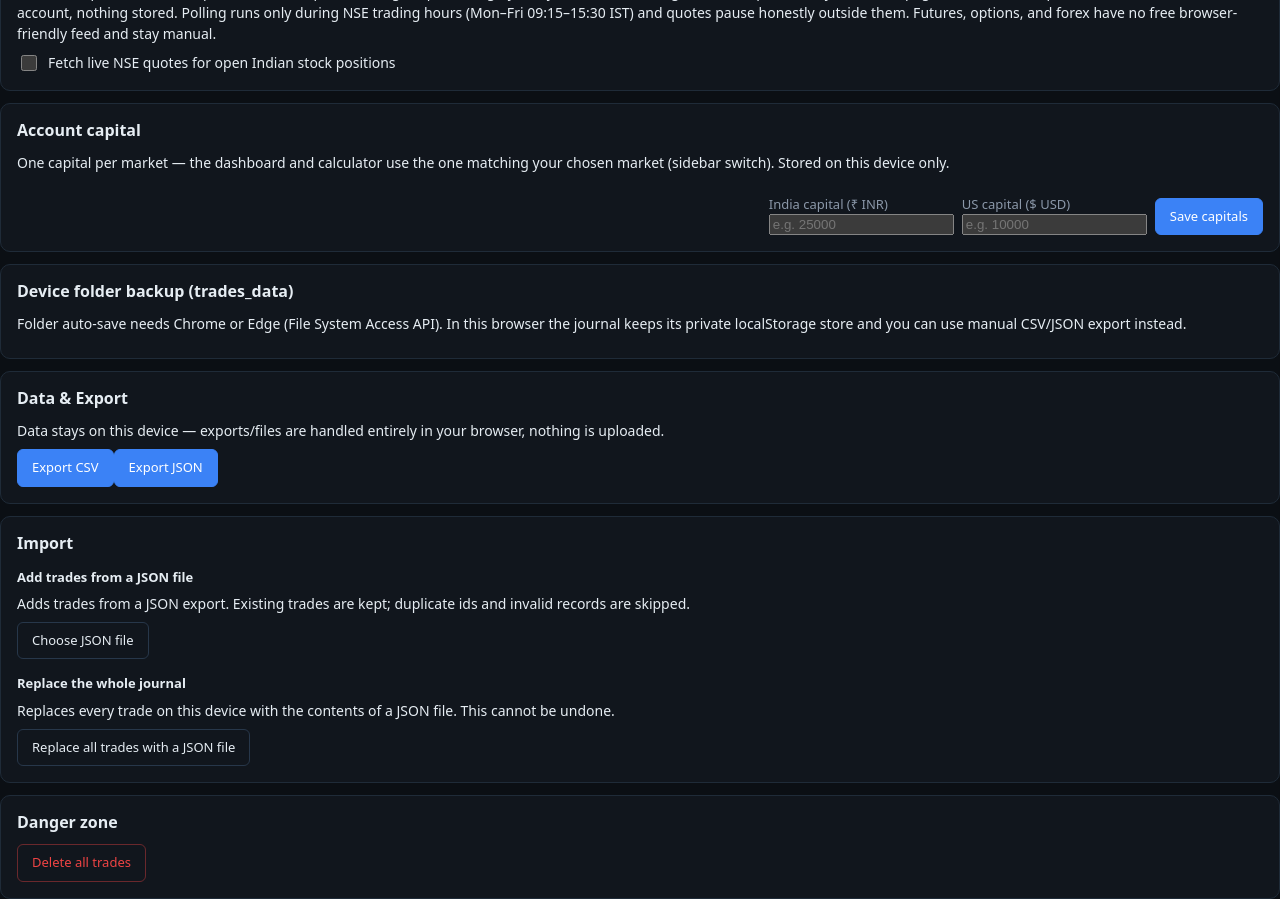
Scenario: danger zone: two-step inline delete › first click asks "Really delete all?", No cancels, clearAll only after Yes
(page scrolled)
Click the button "Delete all trades".
click(82, 863)  # box x1=17 y1=844 x2=146 y2=882
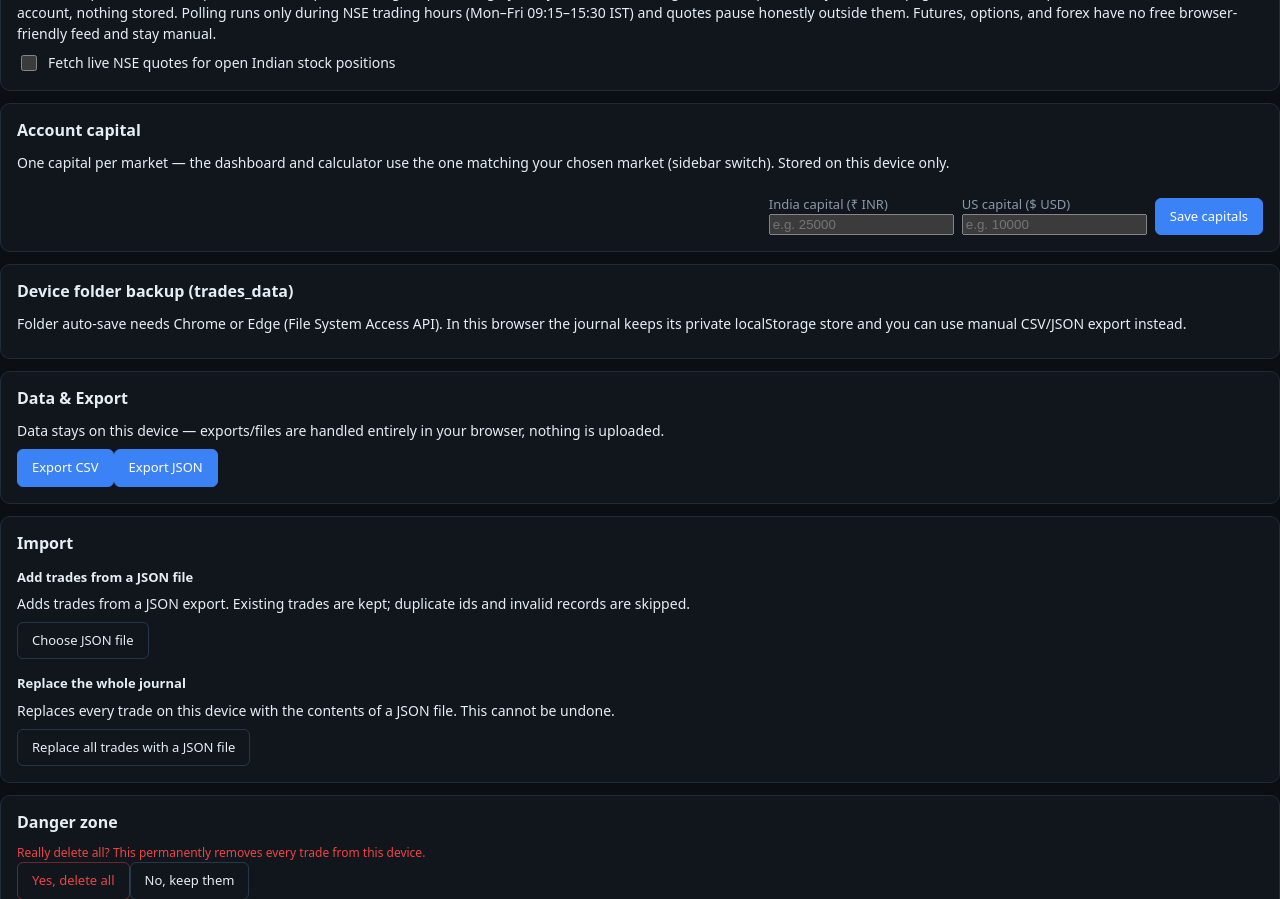
Now the text "Really delete all?" is shown, box x1=17 y1=844 x2=425 y2=861
Click the button "No, keep them".
click(190, 881)  # box x1=130 y1=862 x2=249 y2=898
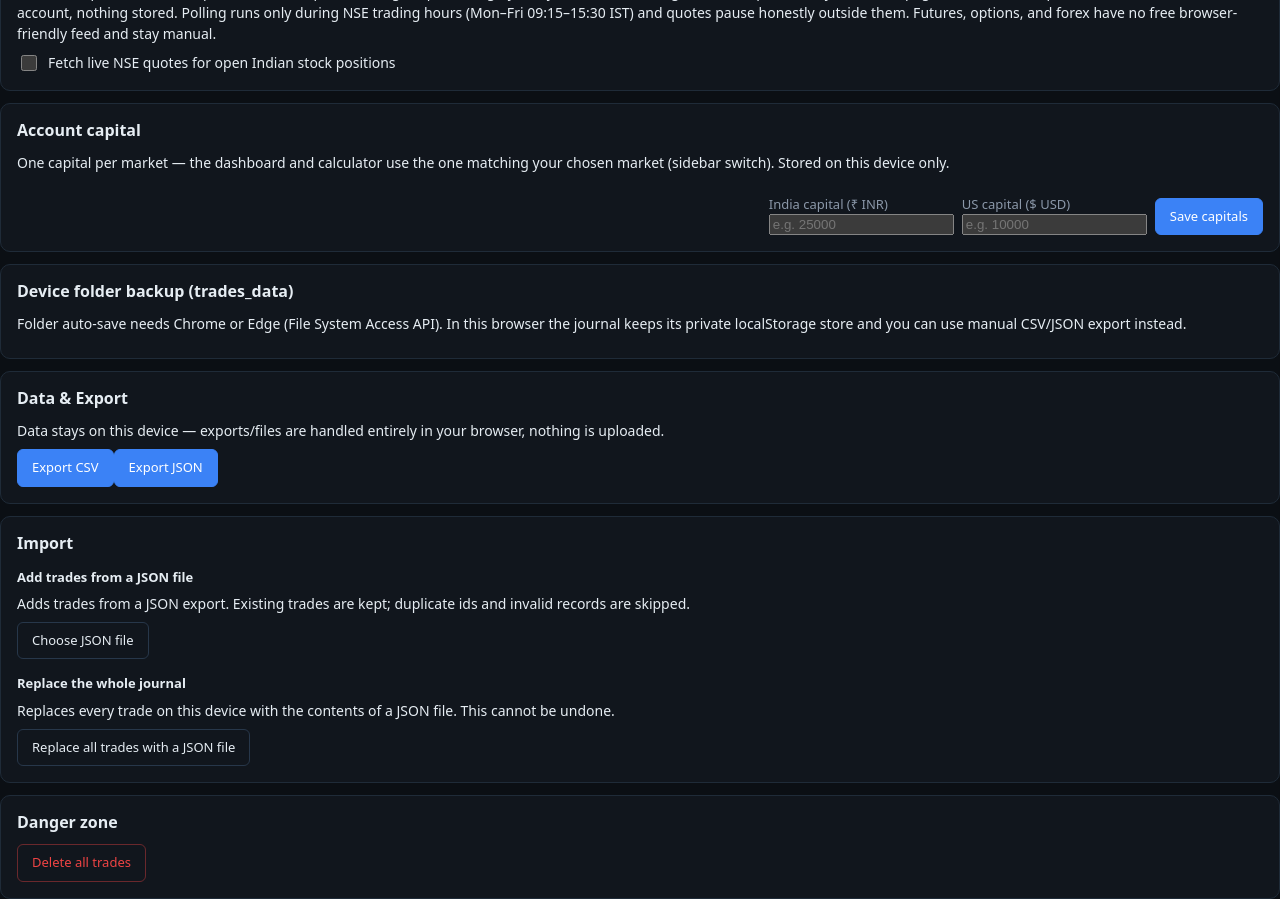
Now the text "Really delete all?" is gone
Click the button "Delete all trades".
click(82, 863)  # box x1=17 y1=844 x2=146 y2=882
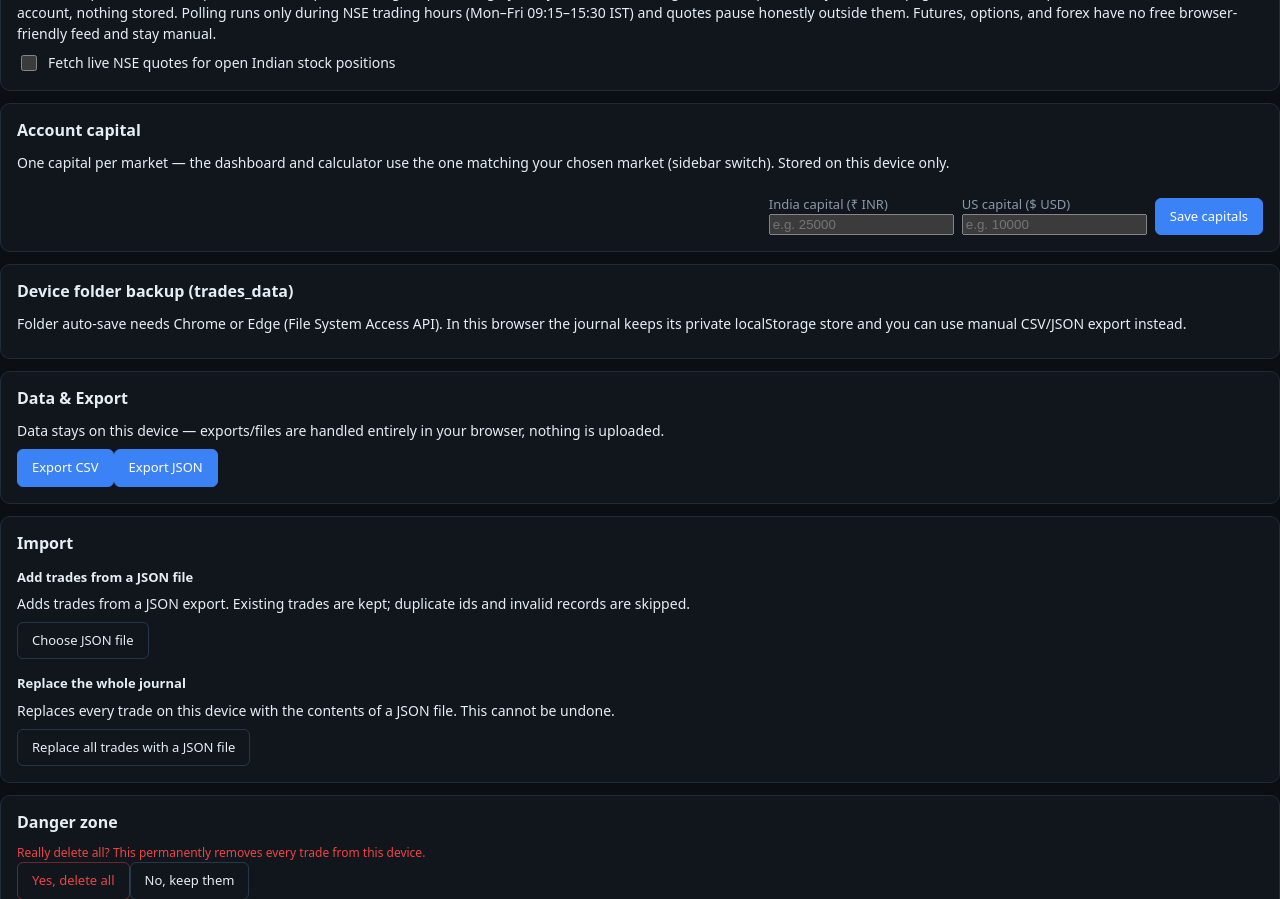
Click the button "Yes, delete all".
click(73, 881)  # box x1=17 y1=862 x2=130 y2=898
(page scrolled)
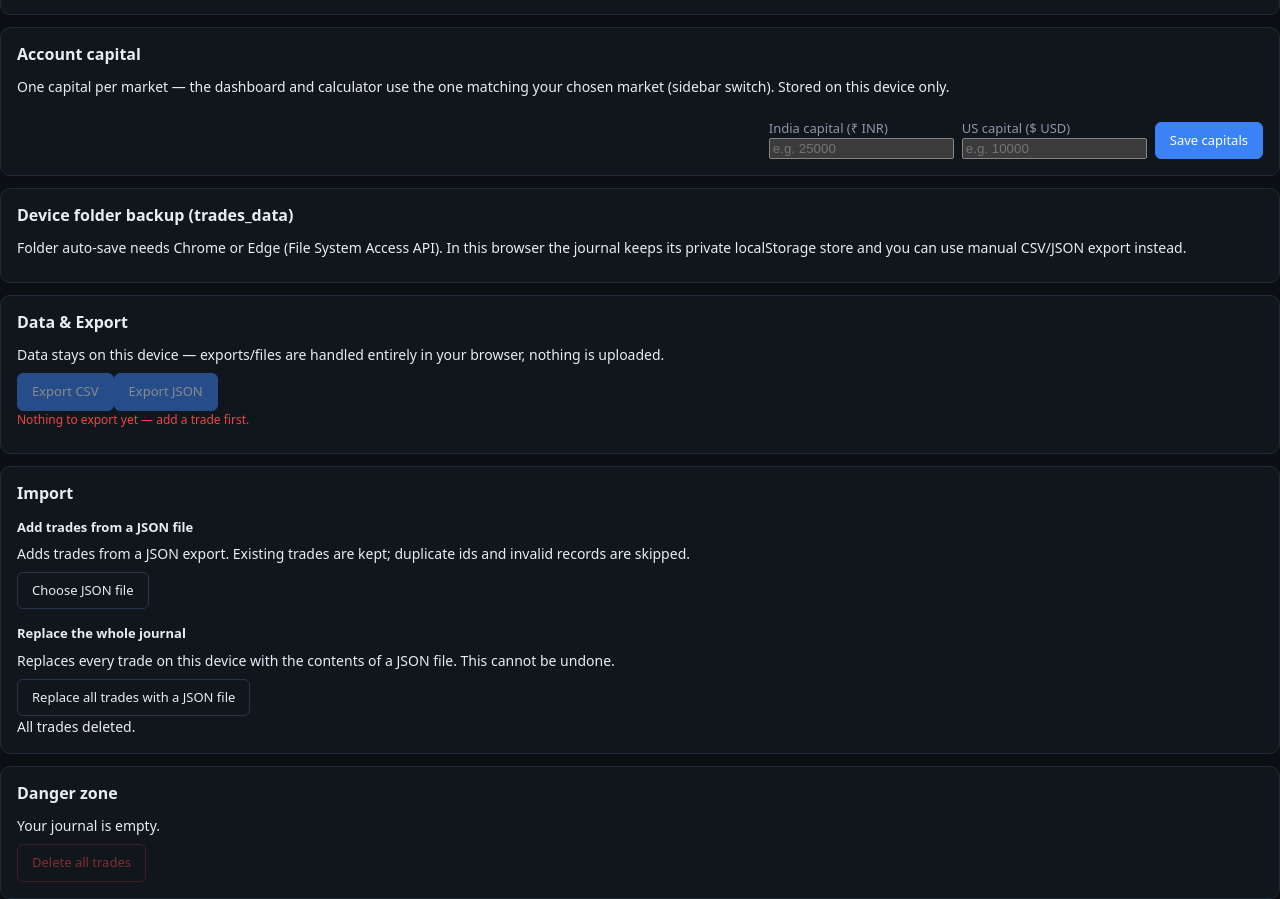
Now the text "Your journal is empty." is shown, box x1=17 y1=816 x2=160 y2=835
Now the button "Delete all trades" is disabled, box x1=17 y1=844 x2=146 y2=882
